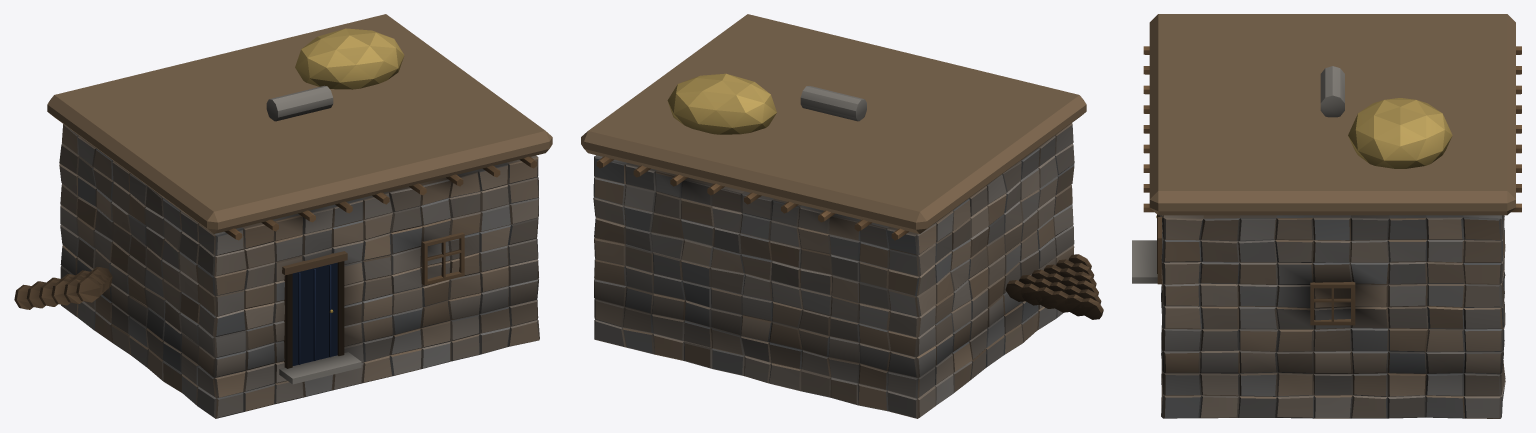
Rendered from house_plateau_2.glb.
3 renders of one model, left to right at view 1: azimuth 30°, elevation 25°; view 2: azimuth 150°, elevation 25°; view 3: azimuth 270°, elevation 25°, orthographic. The views are drawn at different scales.
Visible parts, largest first — view 1: box; view 2: box; view 3: box.
Boxes of the visible parts, <box> form: box: <box>14,14,552,418</box>; box: <box>581,14,1103,418</box>; box: <box>1132,14,1521,418</box>.
Size of the model in its own units: 9.75 by 5.09 by 6.7.
